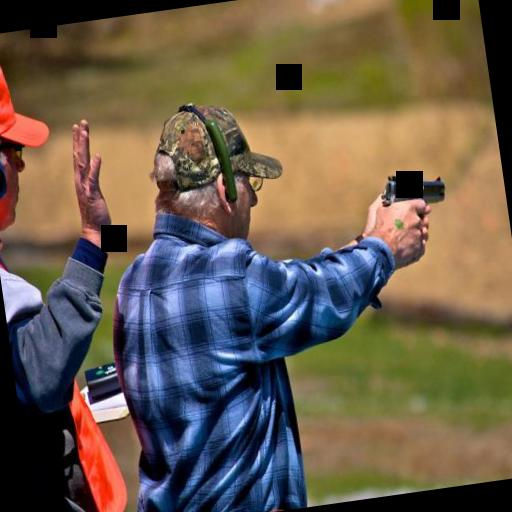Handgun: (372, 161, 450, 220)
